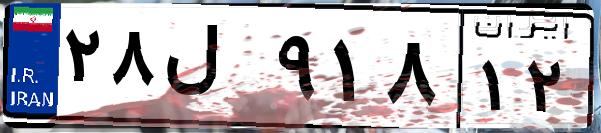1: (330, 28, 385, 110), (475, 38, 525, 113)
2: (57, 26, 110, 100), (525, 38, 570, 115)
8: (385, 28, 445, 110), (110, 28, 158, 98)
9: (270, 28, 330, 110)
ل: (158, 20, 270, 120)
